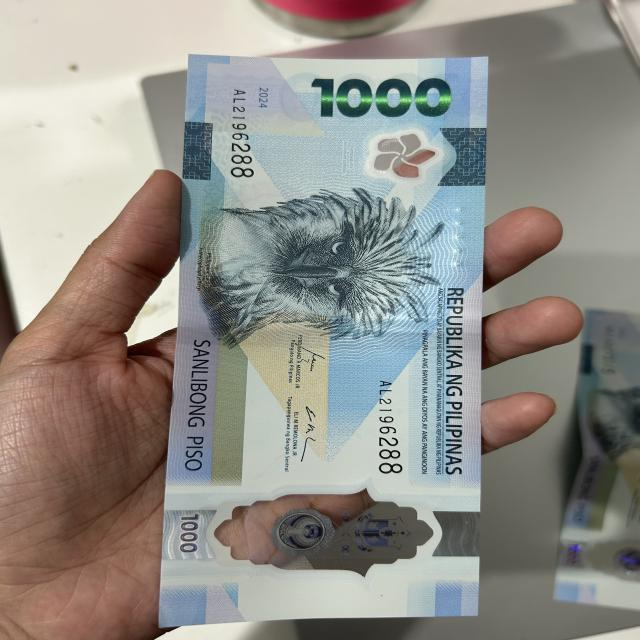clear_window: (206, 490, 454, 578)
eagle: (186, 200, 448, 342)
sampaguita: (372, 132, 437, 178)
